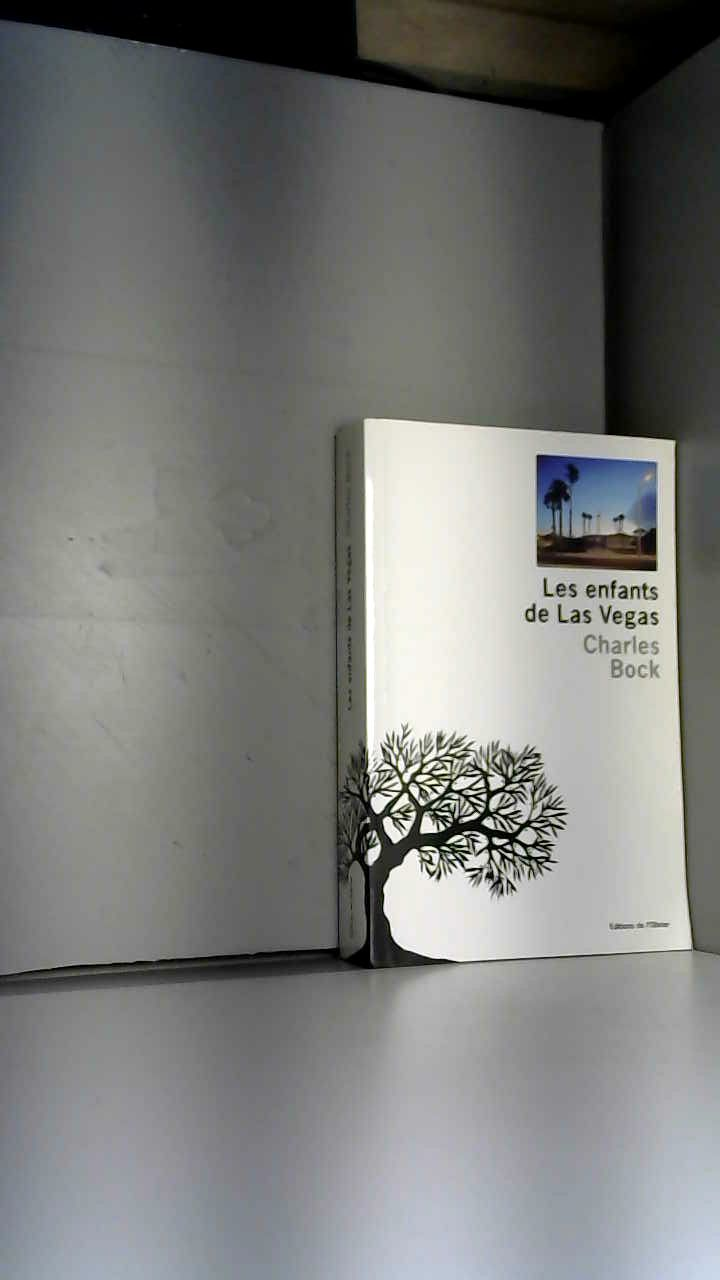book: (286, 374, 720, 1005)
